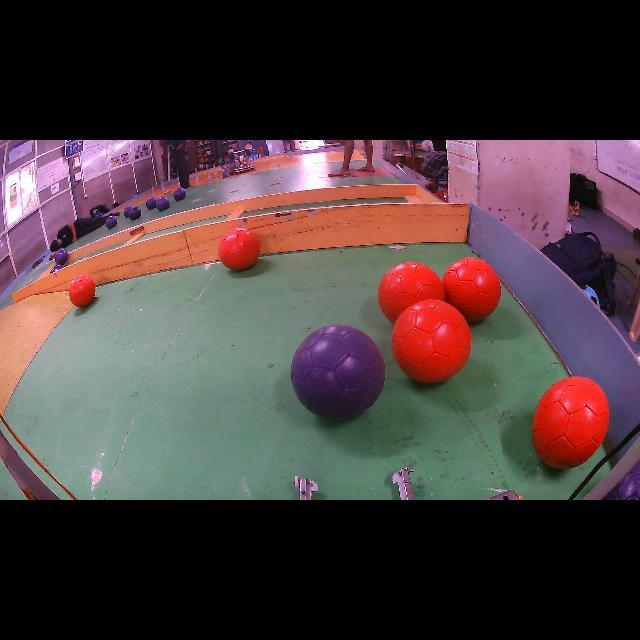P: (292, 327, 384, 419), (156, 196, 170, 211), (55, 249, 68, 265), (105, 216, 118, 229), (174, 188, 186, 201), (146, 196, 156, 210), (124, 205, 134, 218), (50, 264, 62, 272)
R: (532, 376, 609, 469), (392, 301, 472, 385), (378, 262, 445, 328), (442, 258, 501, 321), (219, 228, 260, 270), (69, 274, 95, 308)
